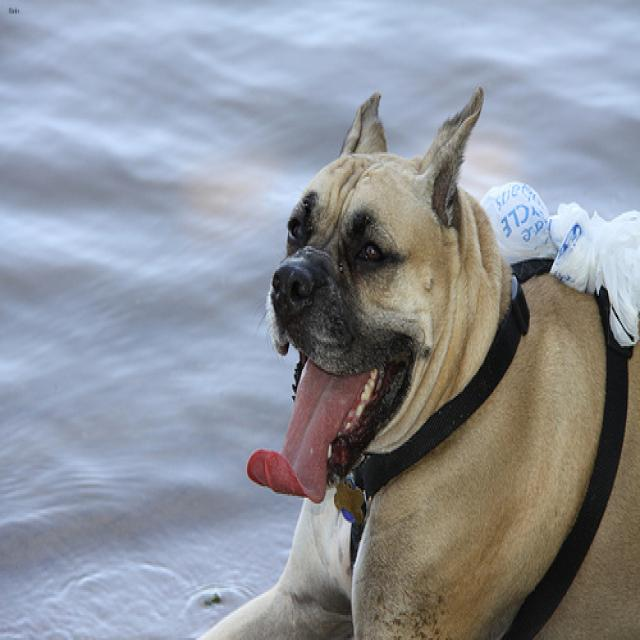dog-boxer: (183, 75, 637, 636)
